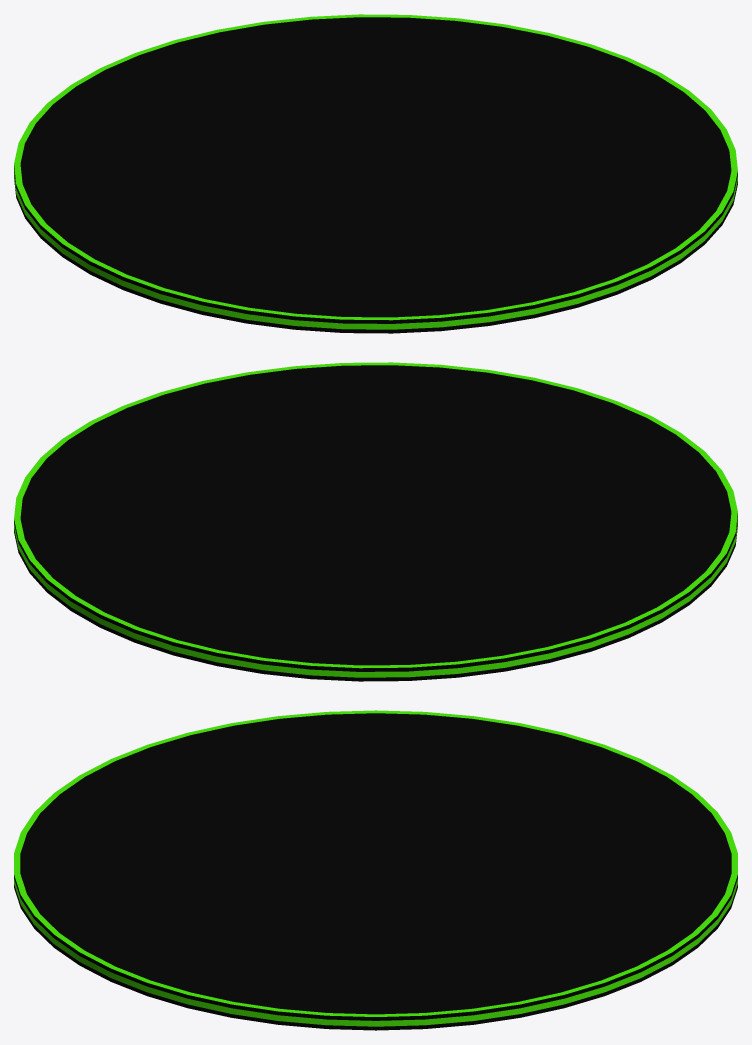
The picture shows the model from 3 angles, top to bottom: view 1: azimuth 30°, elevation 25°; view 2: azimuth 150°, elevation 25°; view 3: azimuth 270°, elevation 25°; orthographic projection.
Visible parts, largest first — view 1: Cylinder001; view 2: Cylinder001; view 3: Cylinder001.
Boxes of the visible parts, <box> form: Cylinder001: <box>14,14,737,333</box>; Cylinder001: <box>14,362,737,681</box>; Cylinder001: <box>14,710,737,1030</box>.
Bounding box in the file's own units: 432 × 8.77 × 431.
